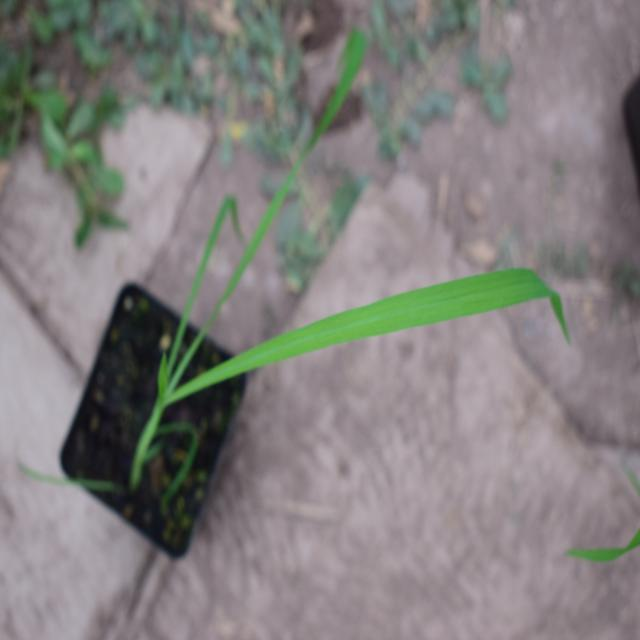barnyard_grass: (116, 110, 572, 450)
